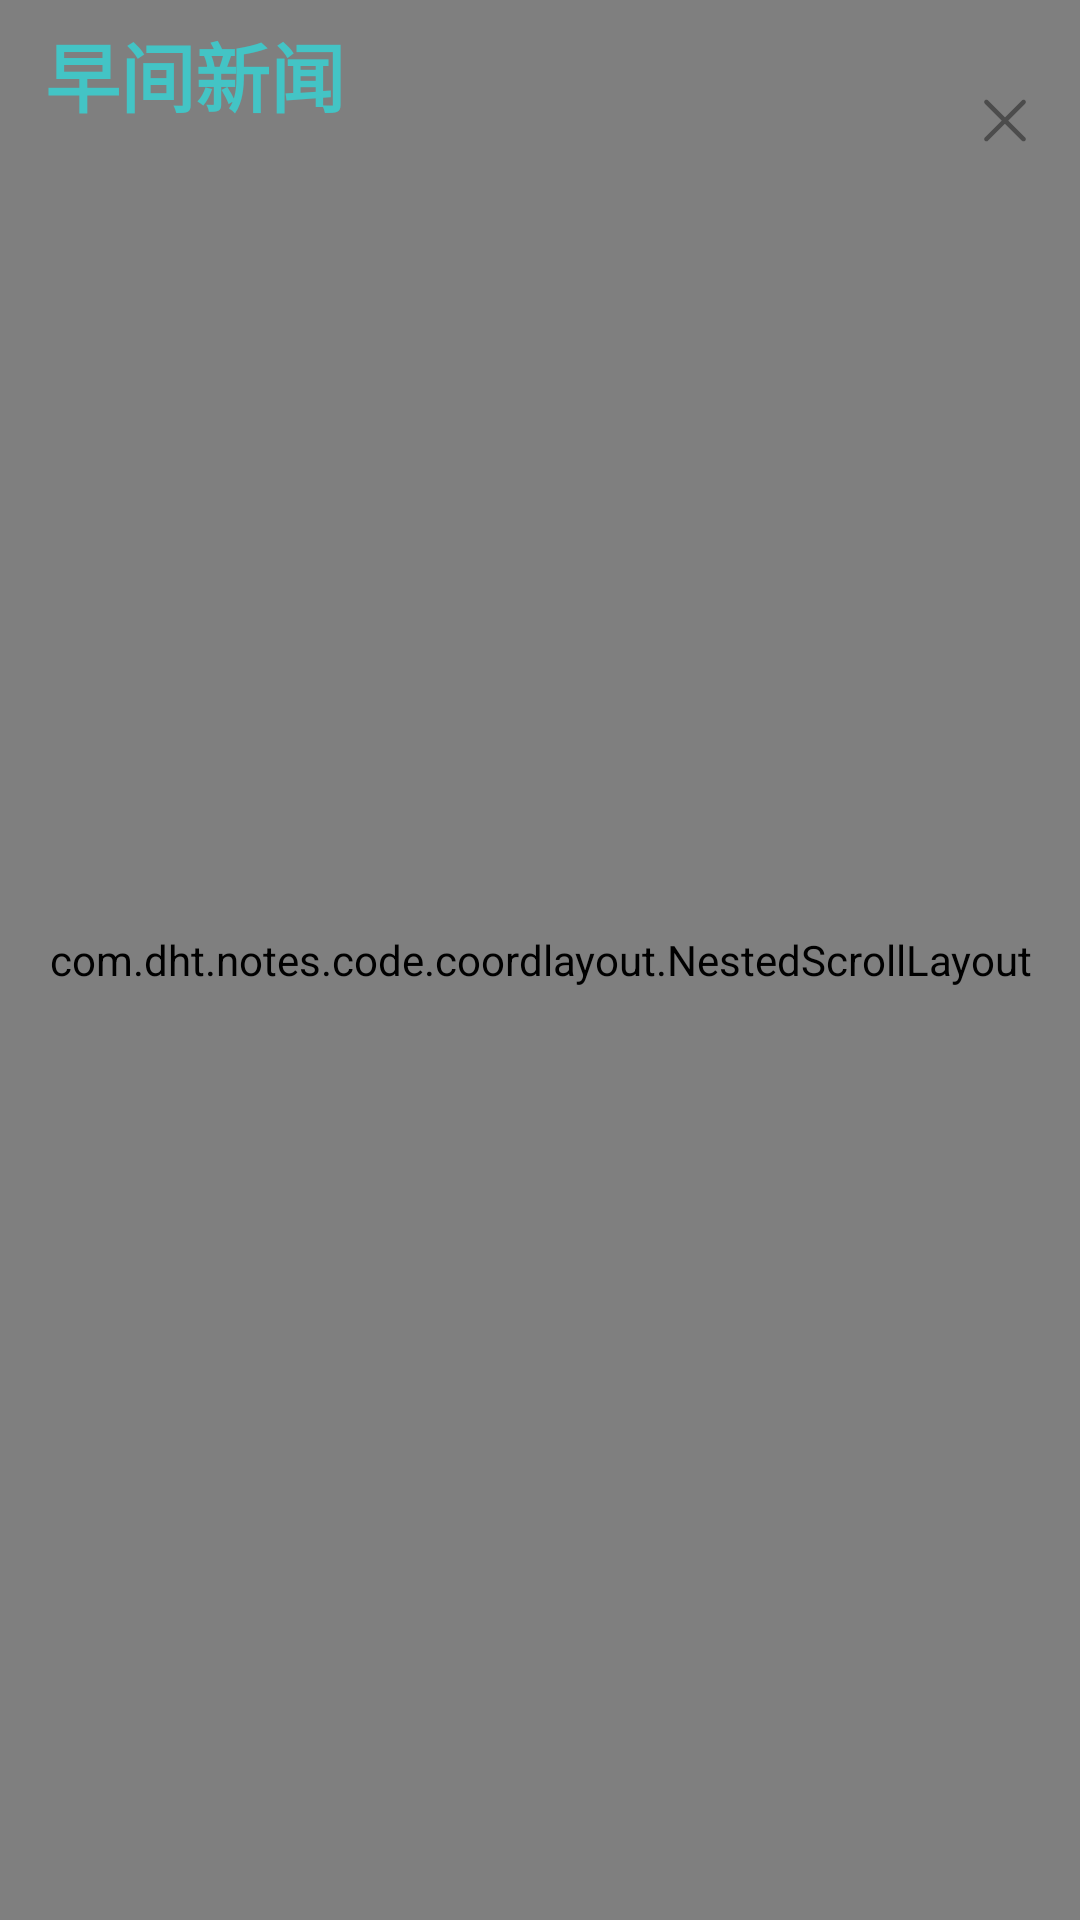

Named icons in this screenshot (1080×1920) and their centers, (x,y):
news close: (1005,120)
